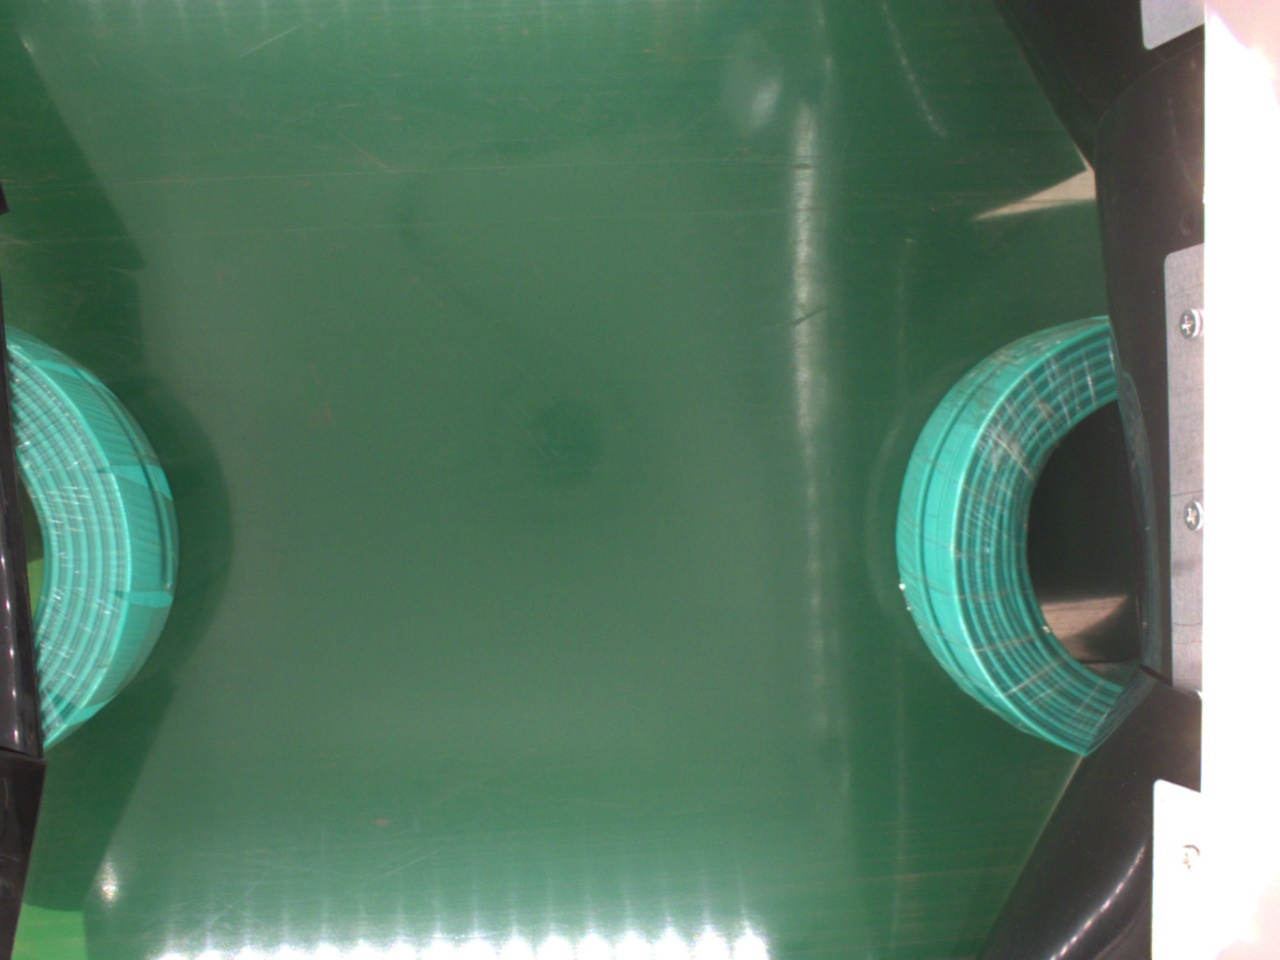green: (888, 314, 1138, 744), (5, 325, 183, 746)
